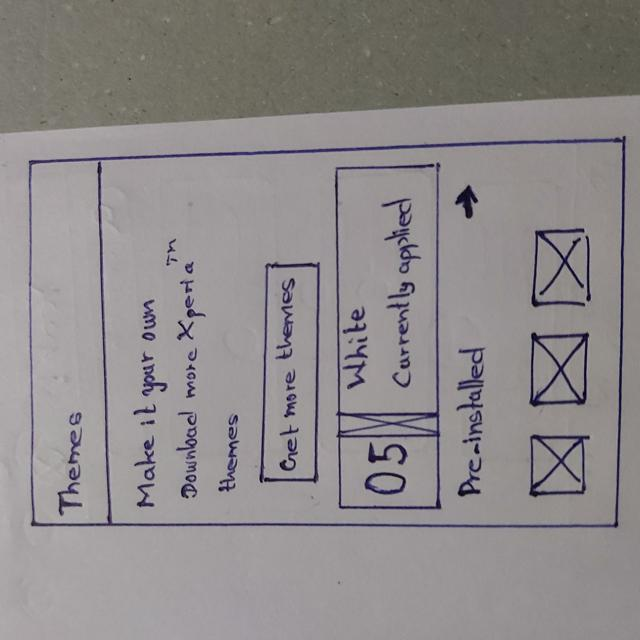AppBar: (26, 158, 117, 532)
Button: (256, 259, 324, 486)
HorizontalListView: (509, 202, 608, 519)
Icon: (453, 179, 481, 224)
Image: (525, 222, 593, 312), (526, 330, 591, 409), (527, 432, 591, 498), (338, 411, 441, 438)
Layout: (333, 165, 444, 510)
ListView: (509, 199, 607, 518)
MainLayout: (24, 136, 622, 534)
TextView: (164, 240, 205, 507), (382, 195, 422, 393), (129, 290, 164, 516), (455, 342, 493, 501), (358, 441, 417, 501), (56, 407, 87, 513), (344, 305, 369, 397), (221, 413, 242, 501)
